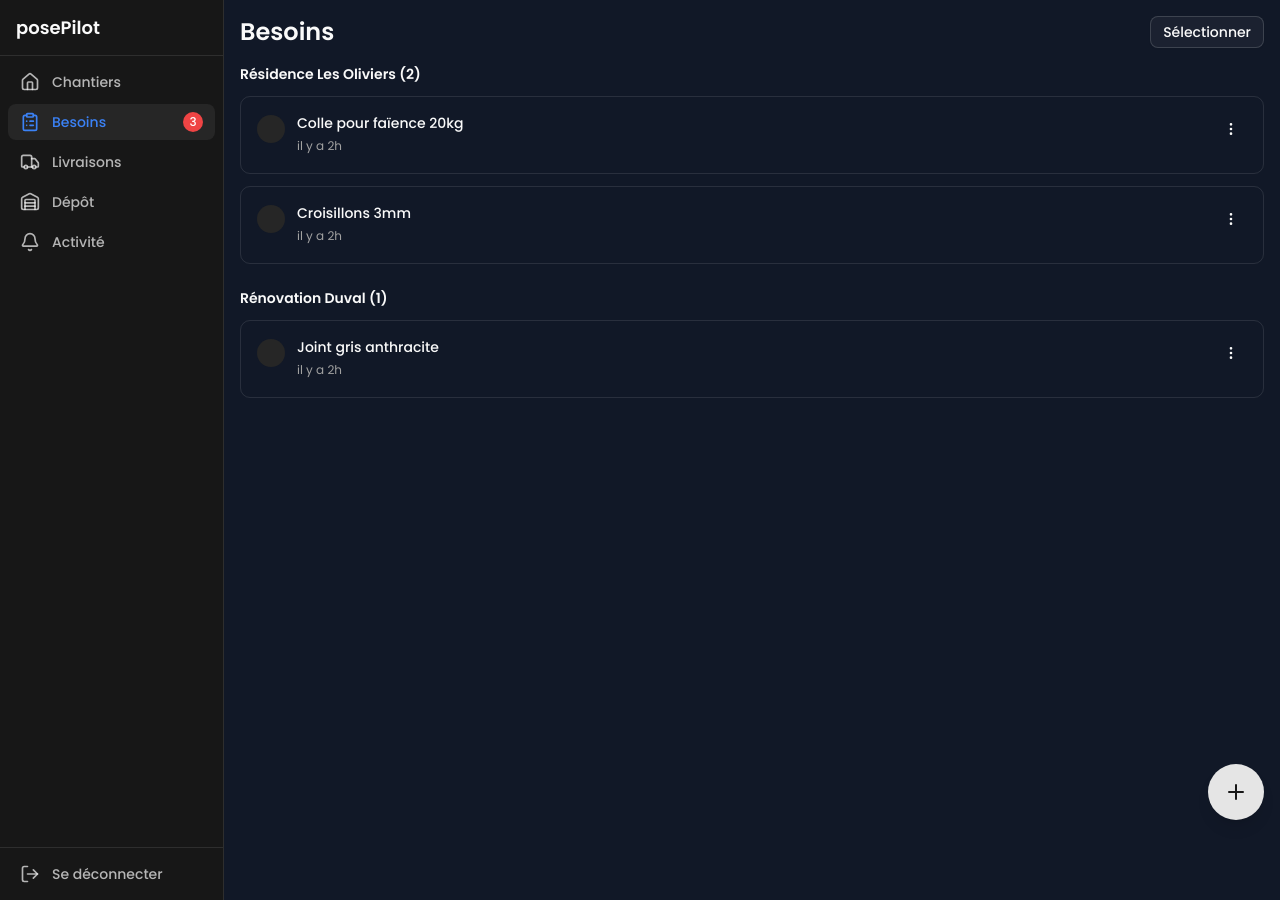
Test: BesoinsPage — selection mode › enters selection mode with checkboxes
Expected: the text "Colle pour faïence 20kg" is shown, [297,113,464,133]
Click the button "Sélectionner". click: {"x": 1207, "y": 32}
box: [1150,16,1264,48]
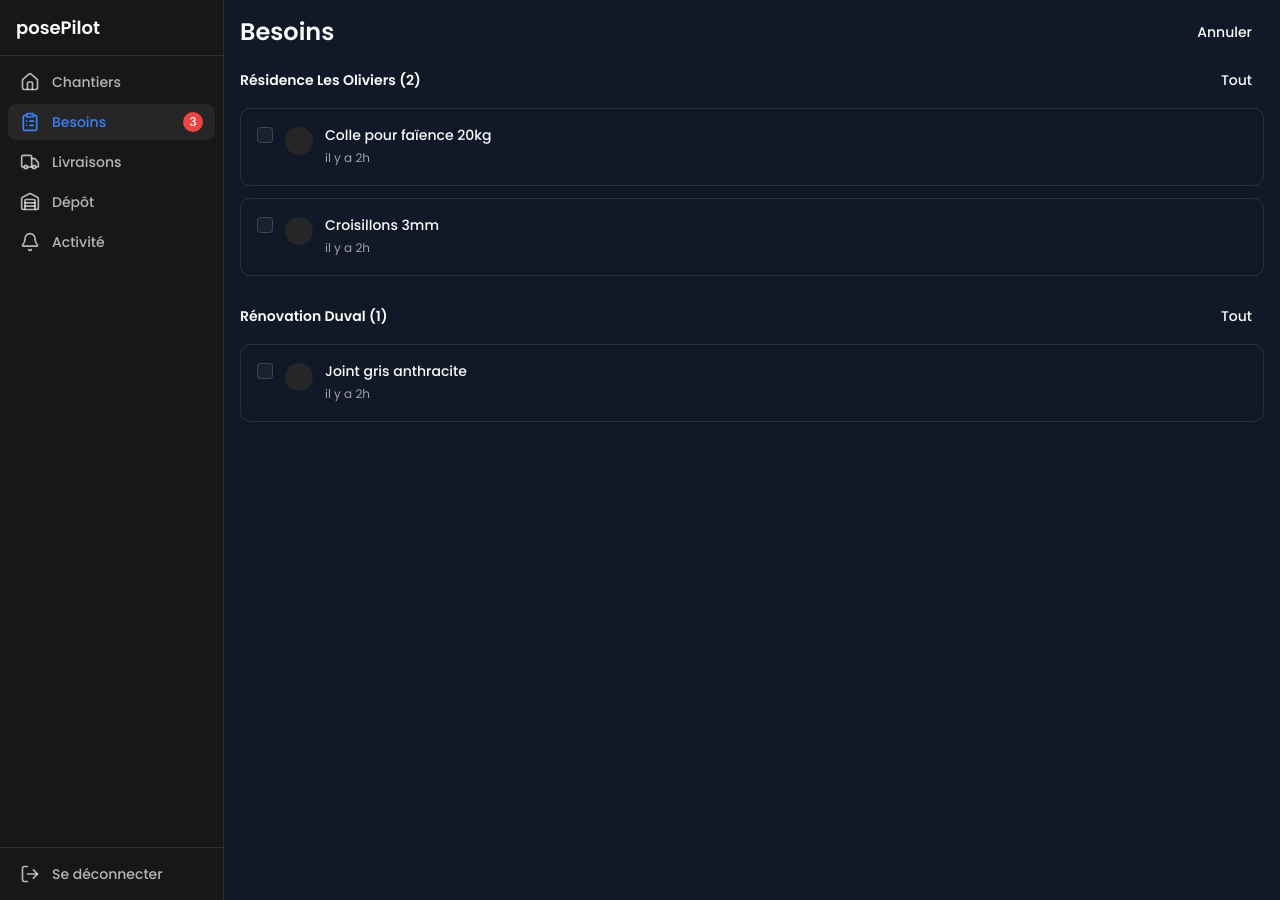
Result: the checkbox named "Sélectionner Colle pour faïence 20kg" is shown at [257,127,273,143]
Result: the checkbox named "Sélectionner Croisillons 3mm" is shown at [257,217,273,233]
Result: the checkbox named "Sélectionner Joint gris anthracite" is shown at [257,363,273,379]
